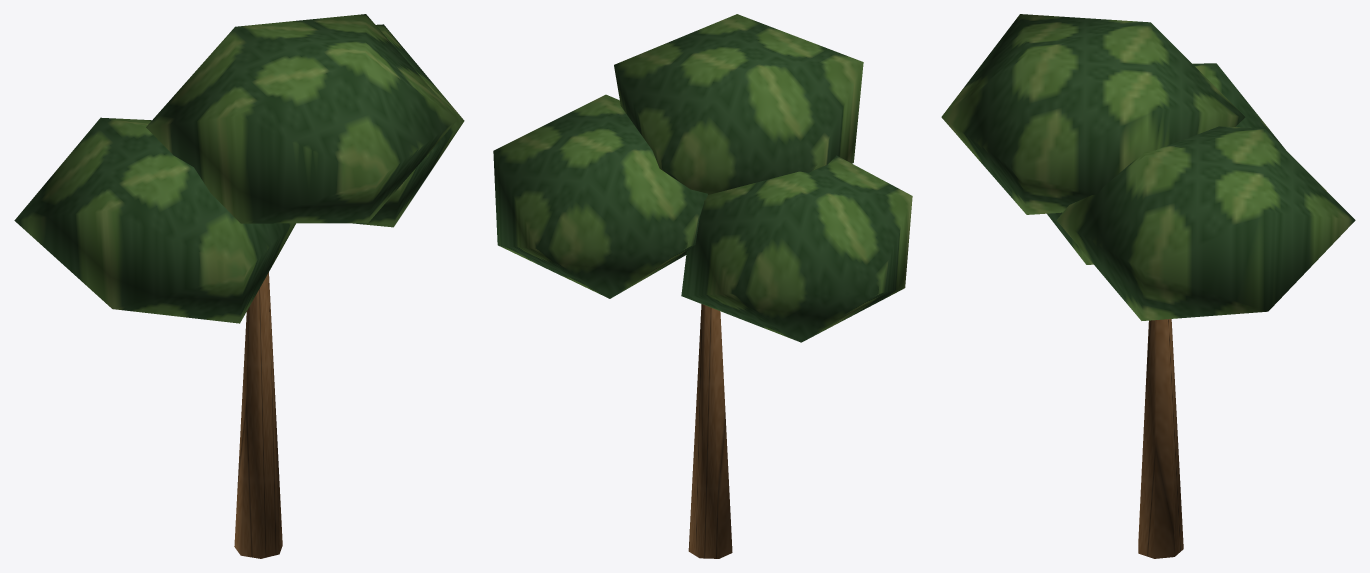
Rendered from tree-lod0.glb.
3 views of the same model, side by side, from view 1: azimuth 30°, elevation 25°; view 2: azimuth 150°, elevation 25°; view 3: azimuth 270°, elevation 25° (orthographic). The views are drawn at different scales.
Bounding box in the file's own units: 0.7844 × 0.9689 × 0.709.
Materials: 1 (1 with a texture image).
